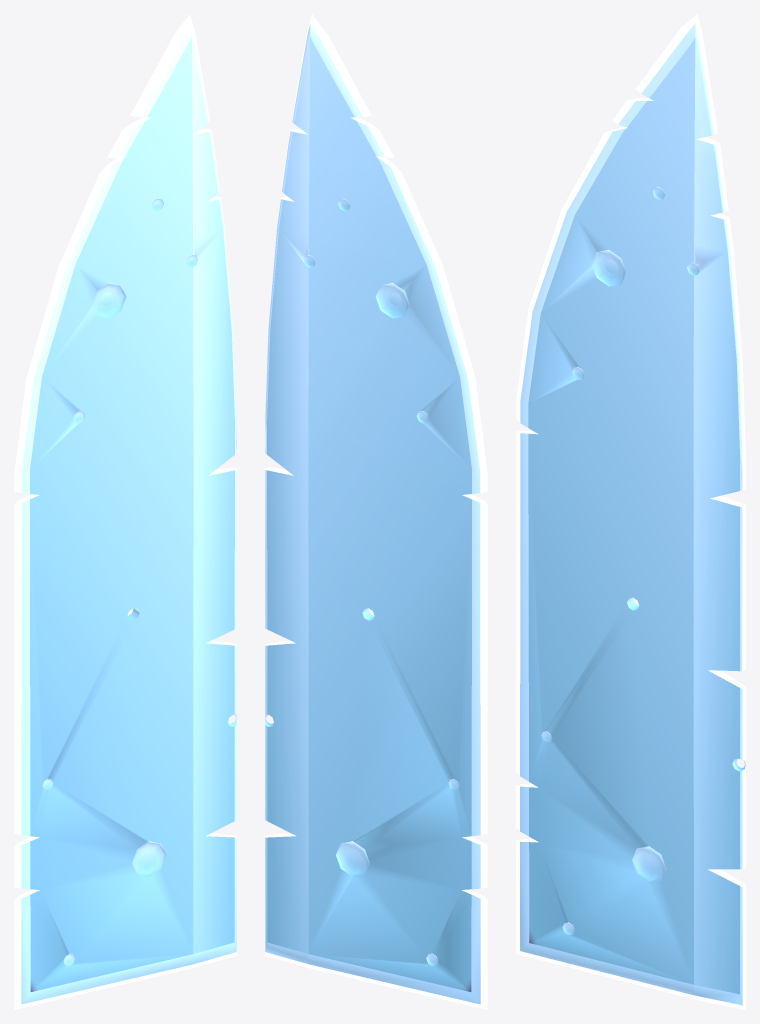
Rendered from steel_blade_bubbles_056.glb.
3 renders of one model, left to right at view 1: azimuth 30°, elevation 25°; view 2: azimuth 150°, elevation 25°; view 3: azimuth 330°, elevation 25°, orthographic. The views are drawn at different scales.
Visible parts, largest first — view 1: steel_blade_bubbles.056; view 2: steel_blade_bubbles.056; view 3: steel_blade_bubbles.056.
Part boxes in pixels (bbox=[...]): steel_blade_bubbles.056: bbox=[14, 14, 236, 1009]; steel_blade_bubbles.056: bbox=[265, 14, 487, 1009]; steel_blade_bubbles.056: bbox=[516, 14, 745, 1009].
Size of the model in its own units: 2.79 by 11.43 by 0.1594.
1 material, 1 textured.
